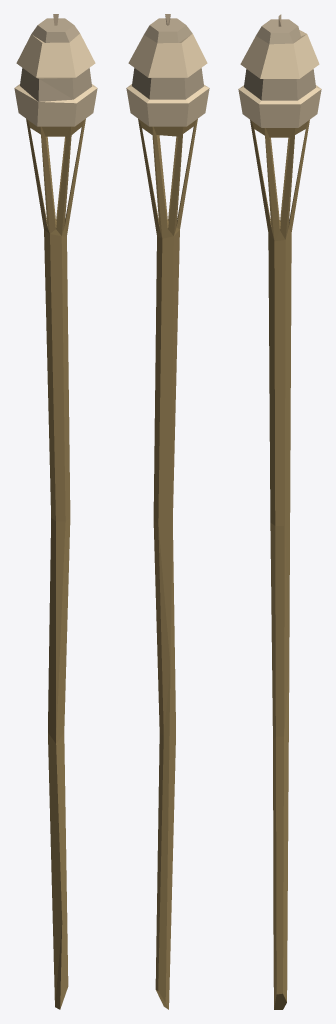
File: Torch.fbx
3 views of the same model, side by side, from view 1: azimuth 30°, elevation 25°; view 2: azimuth 210°, elevation 25°; view 3: azimuth 270°, elevation 25° (orthographic).
Parts seen in each view (by area): view 1: Torch; view 2: Torch; view 3: Torch.
Part boxes in pixels (bbox=[...]): Torch: bbox=[14, 14, 97, 1009]; Torch: bbox=[126, 14, 209, 1009]; Torch: bbox=[238, 14, 321, 1009].
Bounding box in the file's own units: 9.21 × 140 × 10.64.
